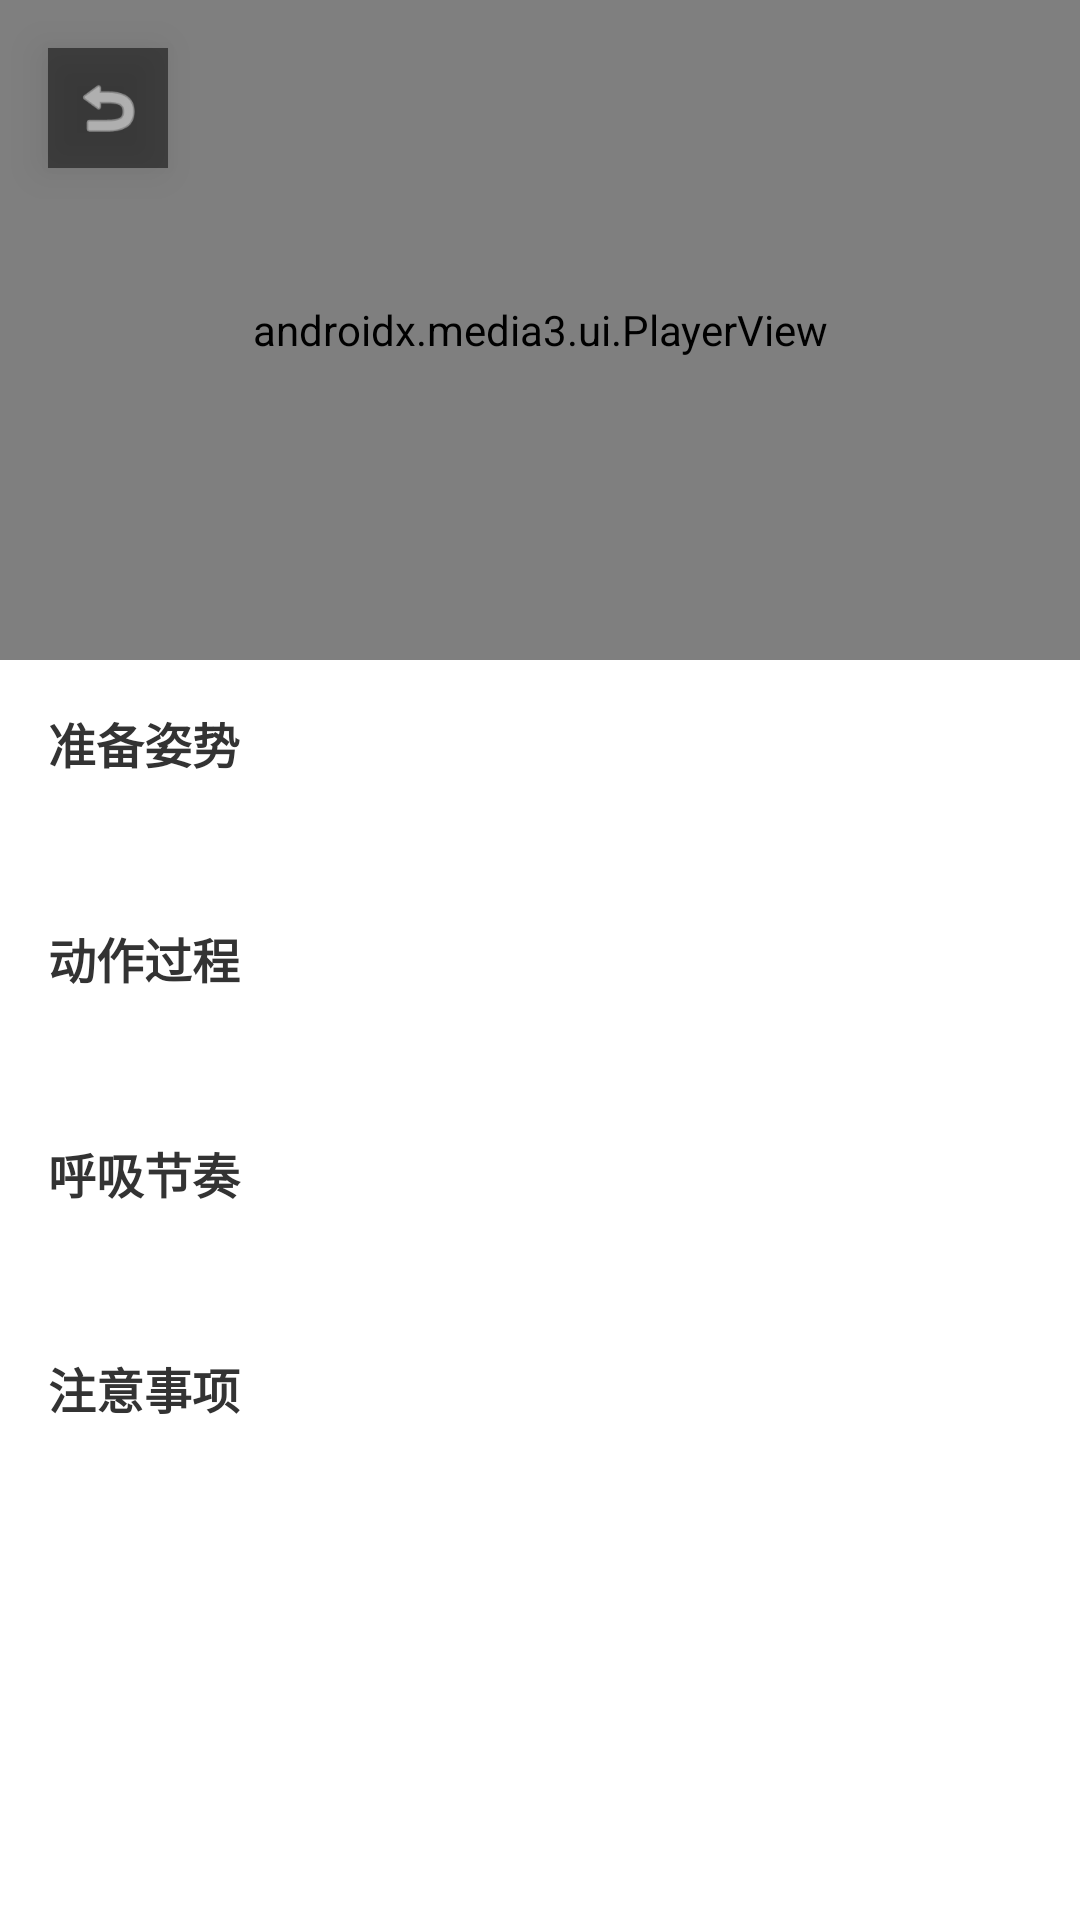

Icon bounding boxes for this 1080 × 1920 phone screenshot, format (x1, y1, x2, y2):
revert: (48, 48, 168, 168)
